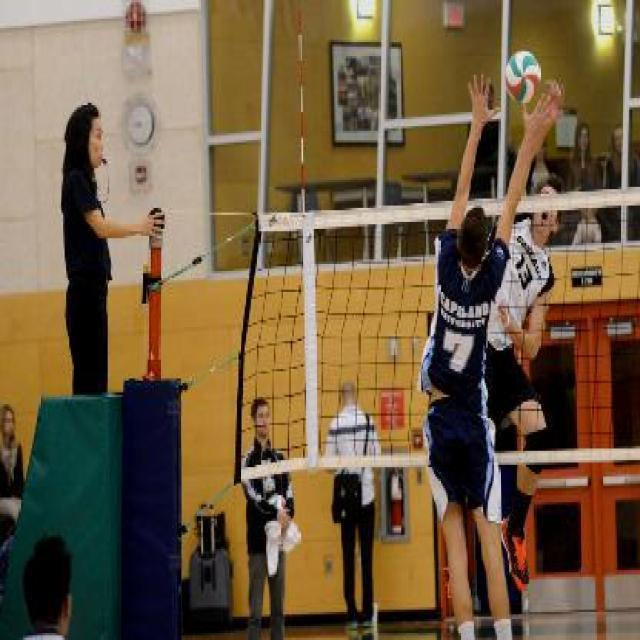volleyball: (505, 50, 542, 104)
